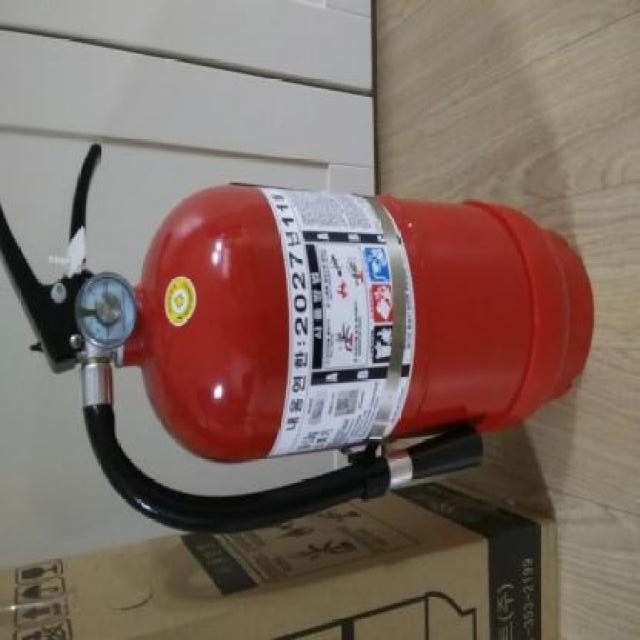fire extinguisher: (0, 142, 594, 536)
